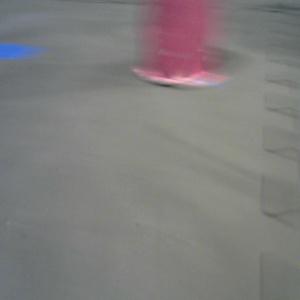Right: (136, 1, 218, 85)
